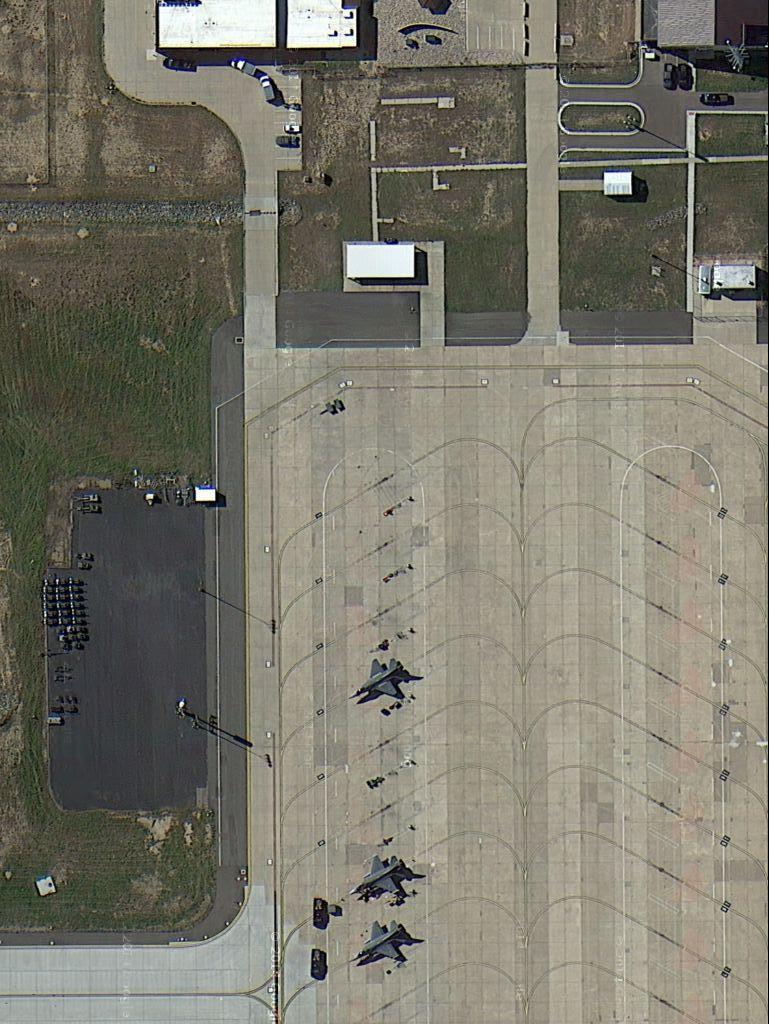F-16: (345, 852, 415, 904), (351, 918, 417, 968), (352, 655, 409, 708)
